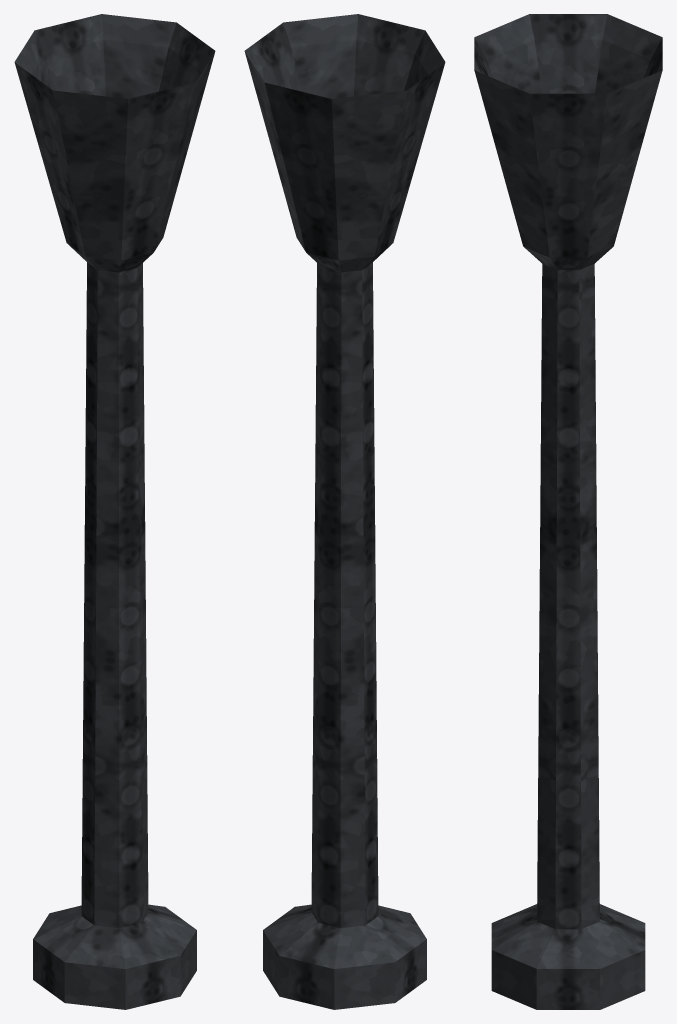
The model's file is kit_brazier.glb.
3 renders of one model, left to right at view 1: azimuth 30°, elevation 25°; view 2: azimuth 150°, elevation 25°; view 3: azimuth 270°, elevation 25°, orthographic.
Parts seen in each view (by area): view 1: kit_brazier; view 2: kit_brazier; view 3: kit_brazier.
Part boxes in pixels (<box>): kit_brazier: <box>14,14,215,1009</box>; kit_brazier: <box>244,14,445,1009</box>; kit_brazier: <box>474,14,662,1009</box>.
Size of the model in its own units: 0.4989 by 2.7 by 0.4989.
Materials: 1 (1 with a texture image).
